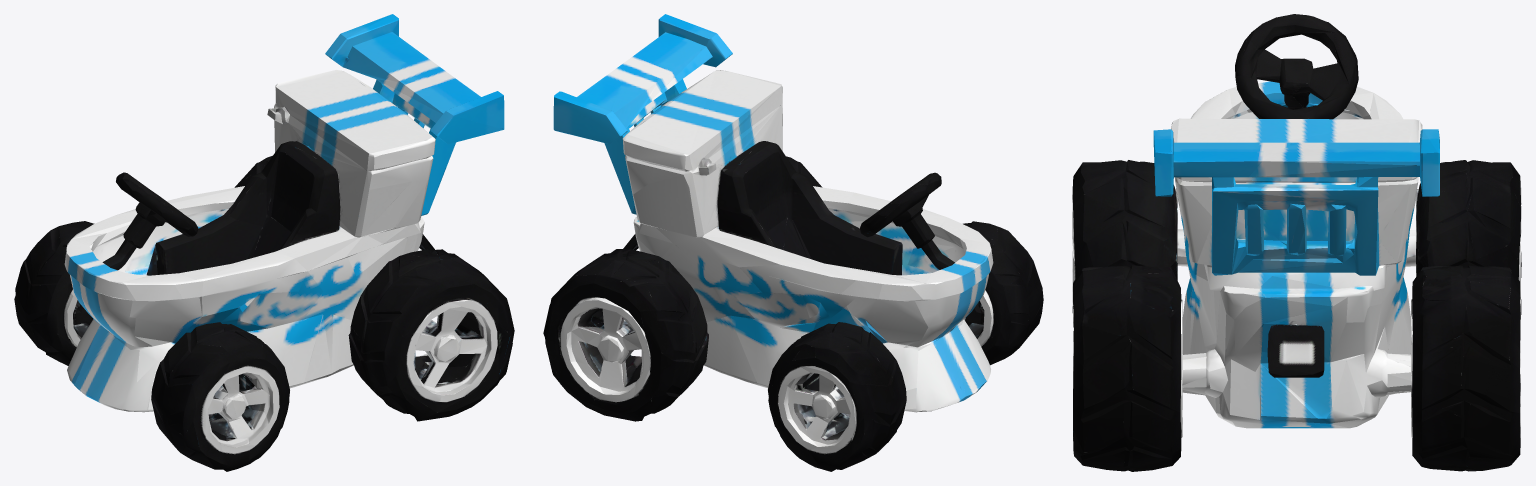
Rendered from toilet_turbo.glb.
3 renders of one model, left to right at view 1: azimuth 30°, elevation 25°; view 2: azimuth 150°, elevation 25°; view 3: azimuth 270°, elevation 25°, orthographic. The views are drawn at different scales.
Size of the model in its own units: 1.9 by 1.39 by 1.57.
Materials: 1 (1 with a texture image).
